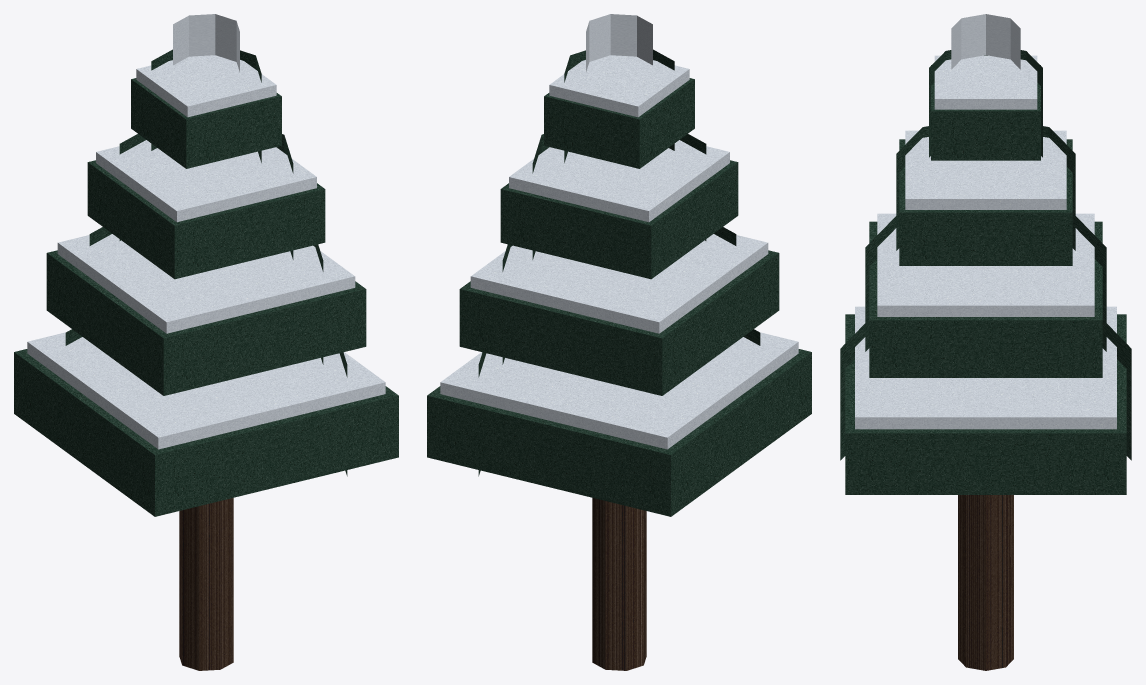
Rendered from winter_tree.glb.
3 views of the same model, side by side, from view 1: azimuth 30°, elevation 25°; view 2: azimuth 150°, elevation 25°; view 3: azimuth 270°, elevation 25° (orthographic).
Parts seen in each view (by area): view 1: winter_tree.glb; view 2: winter_tree.glb; view 3: winter_tree.glb.
Boxes of the visible parts, x1=… form: winter_tree.glb: x1=14, y1=14, x2=398, y2=670; winter_tree.glb: x1=427, y1=14, x2=811, y2=670; winter_tree.glb: x1=840, y1=14, x2=1131, y2=670.
Bounding box in the file's own units: 3.53 × 8.43 × 3.53.
Materials: 3 (3 with a texture image).
